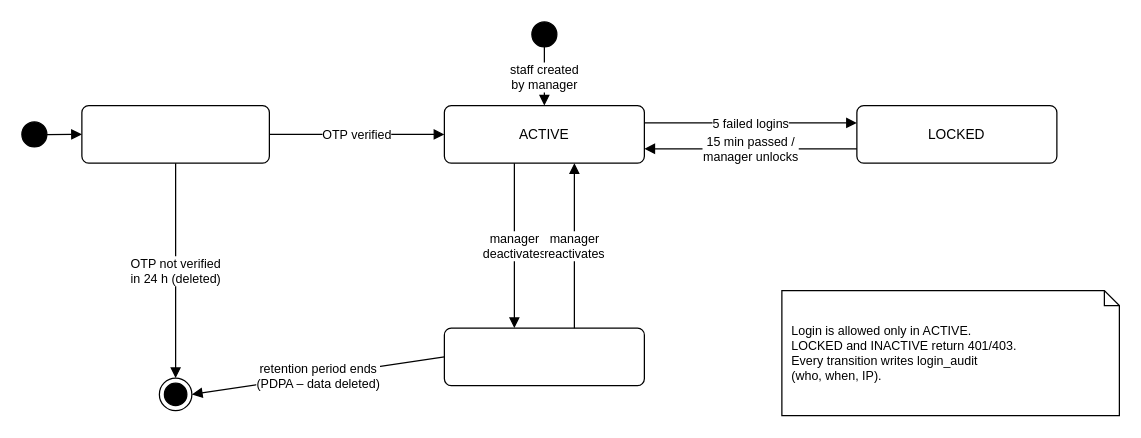
Some shapes in this 1141 by 438 pixel diagram are drawn without their labels. Here are the shapes that lost their labels. From the top down, the centre of each, then its label:
At [175,133]: "PENDING_ VERIFICATION".
At [543,356]: "INACTIVE".
